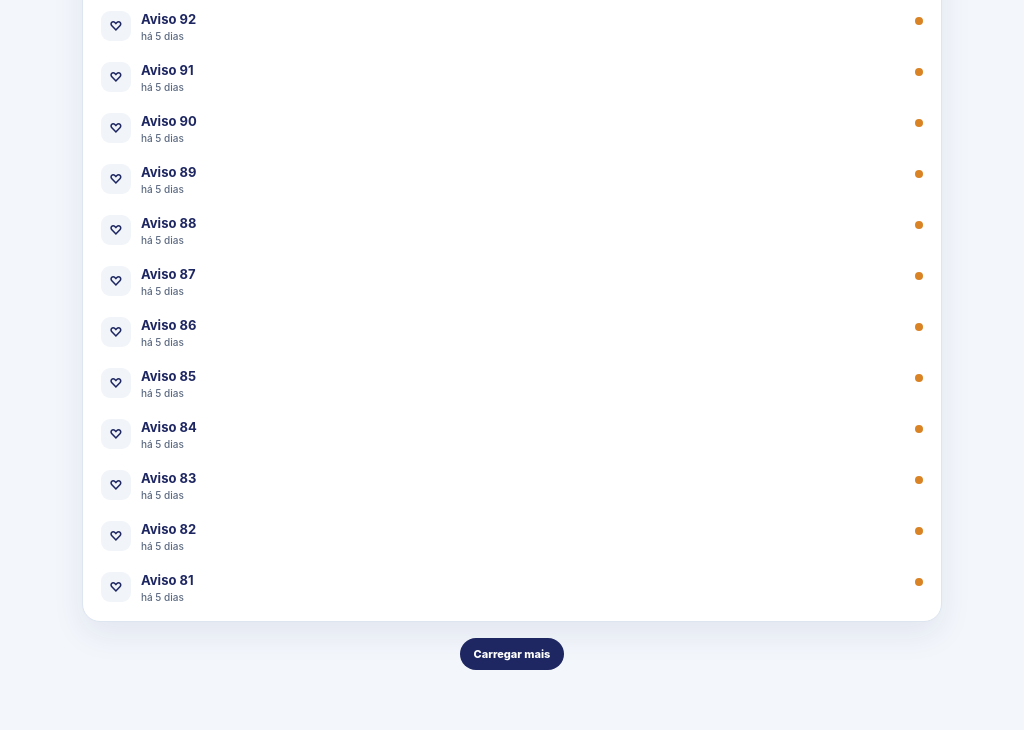
Test case: página de notificações › mostra o erro de carregar mais sem perder o que já foi carregado
This screenshot has width=1024, height=730.
(page scrolled)
Click the button "Carregar mais". click: (512, 654)
box: [460,638,564,670]
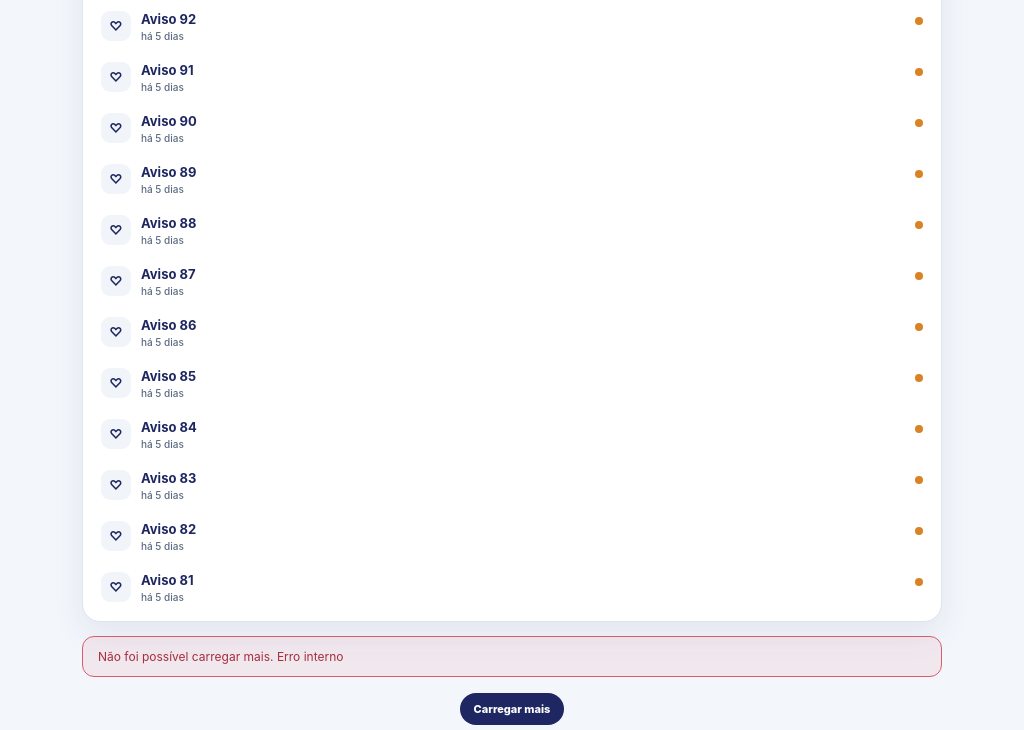
expect the button "Carregar mais" is enabled: met, box [460,693,564,725]
expect the message reads "Não foi possível carregar mais. Erro interno": met, box [82,636,942,677]
